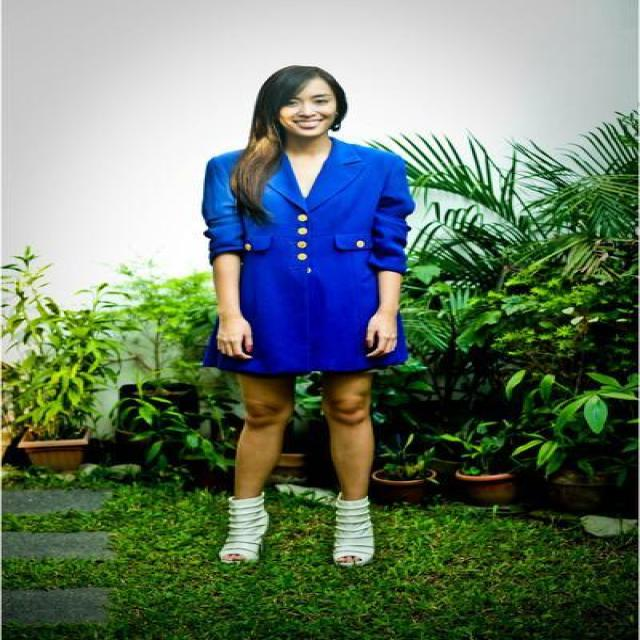dress: (202, 140, 426, 378)
shoe: (219, 492, 373, 564)
